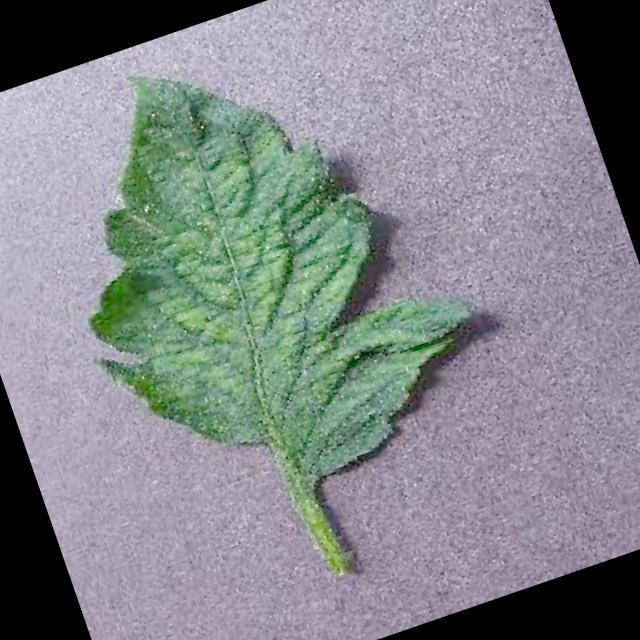Tomato mosaic virus leaf: (8, 0, 512, 536)
